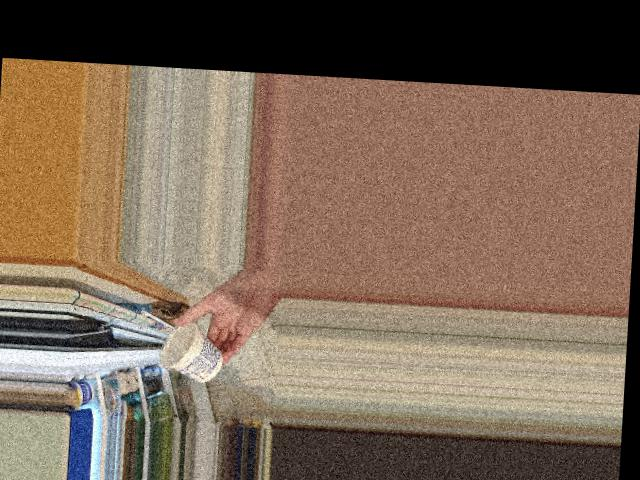cotage: (158, 317, 220, 381)
